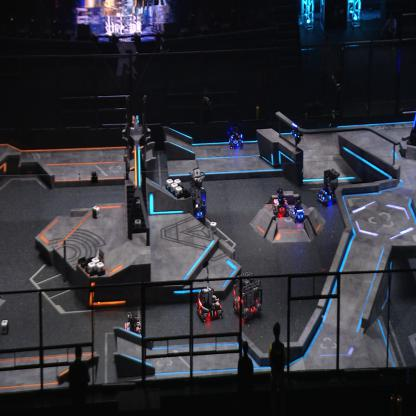car: (232, 270, 264, 322), (184, 173, 207, 224), (195, 285, 223, 323), (316, 169, 340, 205), (125, 312, 145, 342), (272, 188, 290, 216), (228, 125, 244, 150), (289, 197, 305, 222)
